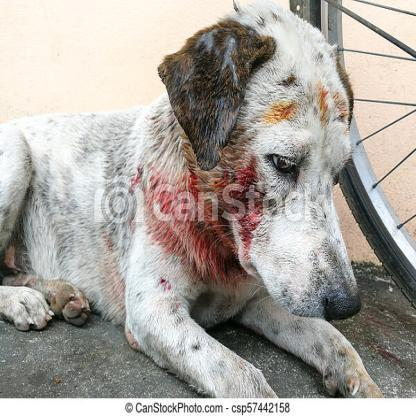dog: (5, 48, 364, 390)
injured: (194, 172, 274, 272)
